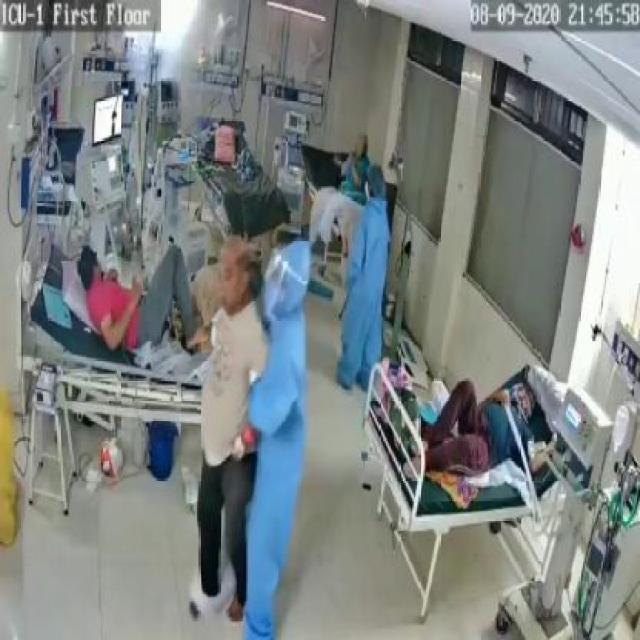smoke: (130, 36, 186, 78)
